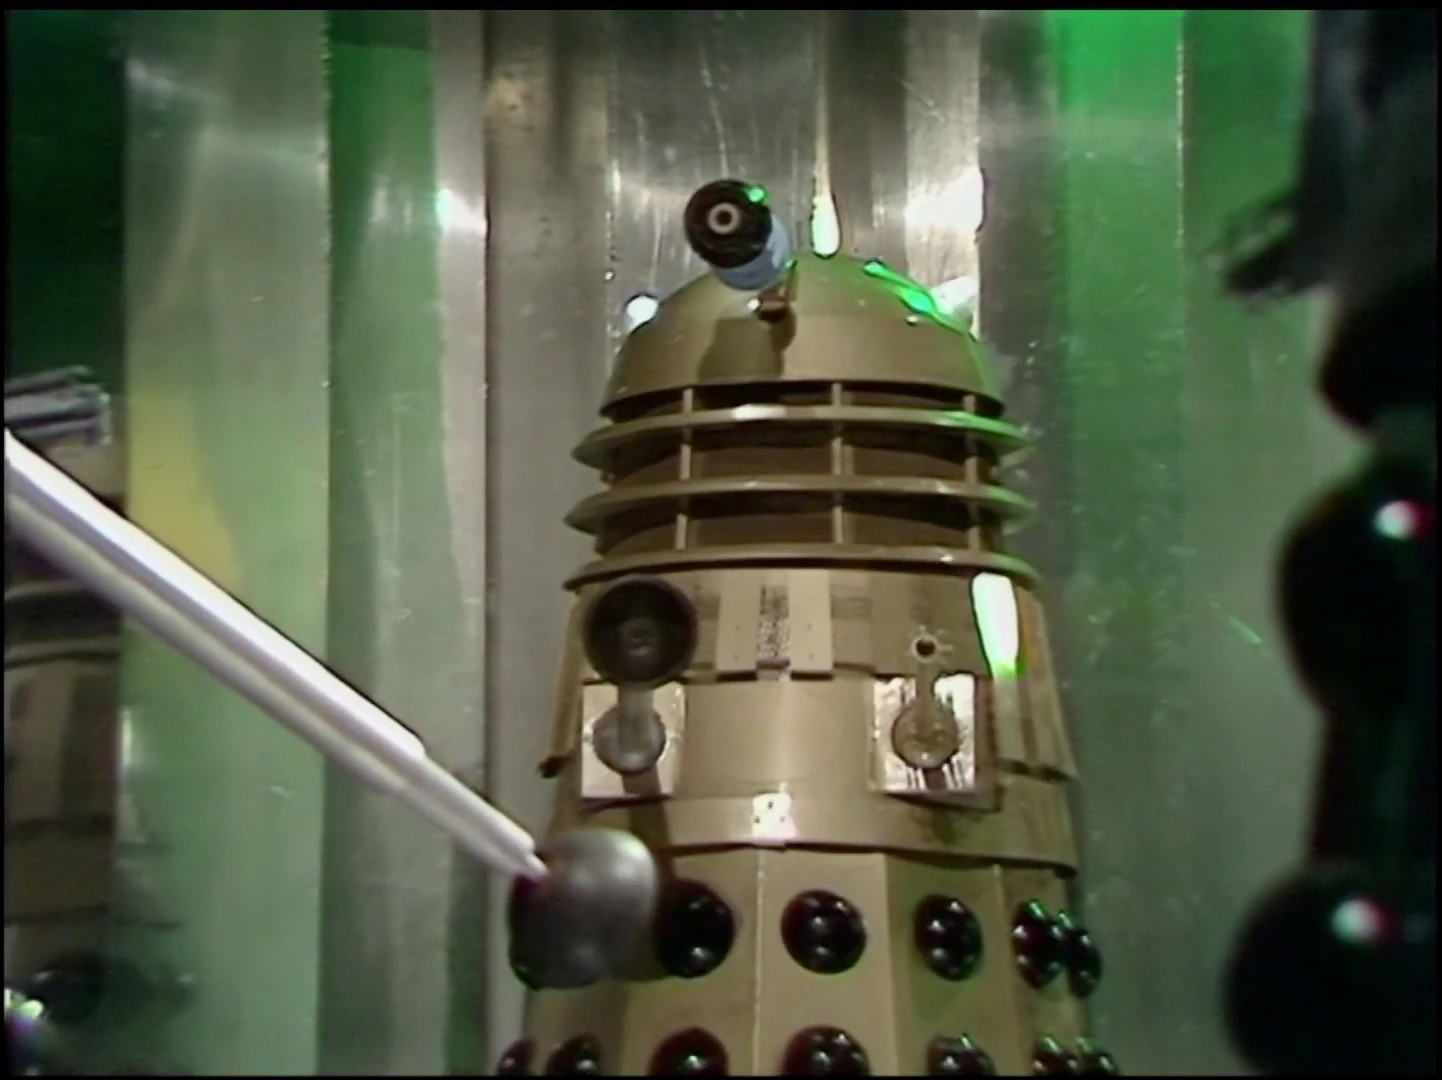Dalek: (466, 169, 1158, 1080)
